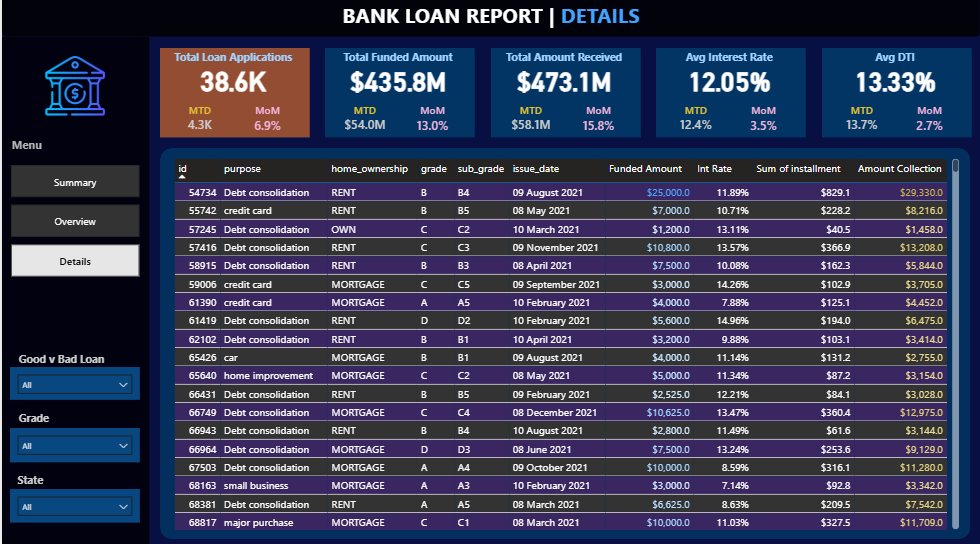

What the dashboard file says about the page in this screenshot:
{"tool":"powerbi","page":{"name":"Details","canvas":[1280,720],"ordinal":2},"visuals":[{"type":"shape","box":[0,0,1280.5,54.6],"z":0},{"type":"group","id":"g1","title":"Group 1","box":[203.1,69.4,199.4,120.6],"z":0,"group":"g7"},{"type":"group","id":"g2","title":"Group 1","box":[419.5,69.4,199.4,120.6],"z":0,"group":"g8"},{"type":"group","id":"g3","title":"Group 1","box":[636,69.4,199.4,120.6],"z":0,"group":"g9"},{"type":"group","id":"g4","title":"Group 1","box":[852.6,69.4,199.4,120.6],"z":0,"group":"g10"},{"type":"group","id":"g5","title":"Group 1","box":[1069.1,69.4,199.4,120.6],"z":0,"group":"g11"},{"type":"textbox","box":[203.6,67.3,199.3,30.8],"z":1000,"group":"g7"},{"type":"textbox","box":[420,67.3,199.3,30.8],"z":1000,"group":"g8"},{"type":"textbox","box":[636.5,67.3,199.3,30.8],"z":1000,"group":"g9"},{"type":"textbox","box":[853.1,67.3,199.3,30.8],"z":1000,"group":"g10"},{"type":"textbox","box":[1069.6,67.3,199.3,30.8],"z":1000,"group":"g11"},{"type":"shape","box":[207,199.6,1060.9,512.2],"z":1000},{"type":"textbox","box":[8.1,461.6,140,35.6],"z":1000,"group":"g16"},{"type":"textbox","box":[9.9,539.5,62.5,32.4],"z":1000,"group":"g17"},{"type":"textbox","box":[1.8,620.6,71.2,29.7],"z":1000,"group":"g18"},{"type":"shape","box":[0,54.6,192.9,665.8],"z":2000},{"type":"shape","box":[0,54.6,192.9,665.8],"z":3000},{"type":"shape","box":[206.5,69.4,195.9,117.2],"z":3000,"group":"g1"},{"type":"shape","box":[422.9,69.4,195.9,117.2],"z":3000,"group":"g2"},{"type":"shape","box":[639.4,69.4,195.9,117.2],"z":3000,"group":"g3"},{"type":"shape","box":[856,69.4,195.9,117.2],"z":3000,"group":"g4"},{"type":"shape","box":[1072.5,69.4,195.9,117.2],"z":3000,"group":"g5"},{"type":"textbox","box":[403,2.1,474.5,45.6],"z":4000},{"type":"image","box":[10.5,0,65.1,54.6],"z":5000},{"type":"textbox","box":[69.7,8.1,158,40.7],"z":6000},{"type":"group","id":"g6","title":"Group 3","box":[203.1,67.3,199.8,123.3],"z":7000},{"type":"group","id":"g7","title":"Group 2","box":[203.1,67.3,199.8,122.6],"z":7000,"group":"g6"},{"type":"group","id":"g8","title":"Group 2","box":[419.5,67.3,199.8,122.6],"z":7000,"group":"g12"},{"type":"group","id":"g9","title":"Group 2","box":[636,67.3,199.8,122.6],"z":7000,"group":"g13"},{"type":"group","id":"g10","title":"Group 2","box":[852.6,67.3,199.8,122.6],"z":7000,"group":"g14"},{"type":"group","id":"g11","title":"Group 2","box":[1069.1,67.3,199.8,122.6],"z":7000,"group":"g15"},{"type":"group","id":"g12","title":"Group 3","box":[419.5,67.3,199.9,123.3],"z":8000},{"type":"card","fields":{"Values":["financial_loan.Total Loan Applications"]},"box":[203.1,88.3,199.3,45.5],"z":8000,"group":"g1"},{"type":"card","fields":{"Values":["financial_loan.Total Loan Amount"]},"box":[419.5,88.3,199.3,45.5],"z":8000,"group":"g2"},{"type":"card","fields":{"Values":["financial_loan.Total Amount Collection"]},"box":[636,88.3,199.3,45.5],"z":8000,"group":"g3"},{"type":"card","fields":{"Values":["financial_loan.Avg Interest Rate"]},"box":[852.6,88.3,199.3,45.5],"z":8000,"group":"g4"},{"type":"card","fields":{"Values":["financial_loan.Avg DTI"]},"box":[1069.1,88.3,199.3,45.5],"z":8000,"group":"g5"},{"type":"card","title":"MoM","fields":{"Values":["financial_loan.YOY Loan Applications"]},"box":[303.6,141.9,88.1,48.7],"z":8000,"group":"g6"},{"type":"card","title":"MoM","fields":{"Values":["financial_loan.YOY Loan Amount"]},"box":[520,141.9,88.1,48.7],"z":8000,"group":"g12"},{"type":"card","title":"MoM","fields":{"Values":["financial_loan.YOY Loan Collection"]},"box":[736.5,141.9,88.1,48.7],"z":8000,"group":"g13"},{"type":"card","title":"MoM","fields":{"Values":["financial_loan.YOY Int Rate"]},"box":[953.1,141.9,88.1,48.7],"z":8000,"group":"g14"},{"type":"card","title":"MoM","fields":{"Values":["financial_loan.YOY DTI"]},"box":[1169.6,141.9,88.1,48.7],"z":8000,"group":"g15"},{"type":"group","id":"g13","title":"Group 3","box":[636,67.3,199.9,123.3],"z":9000},{"type":"card","title":"MTD","fields":{"Values":["financial_loan.MTD Applications"]},"box":[209.8,142,99.3,48],"z":9000,"group":"g1"},{"type":"card","title":"MTD","fields":{"Values":["financial_loan.MTD Loan Amount"]},"box":[426.2,142,99.3,48],"z":9000,"group":"g2"},{"type":"card","title":"MTD","fields":{"Values":["financial_loan.MTD Loan Collection"]},"box":[642.7,142,99.3,48],"z":9000,"group":"g3"},{"type":"card","title":"MTD","fields":{"Values":["financial_loan.MTD Avg Int Rate"]},"box":[859.3,142,99.3,48],"z":9000,"group":"g4"},{"type":"card","title":"MTD","fields":{"Values":["financial_loan.MTD Avg DTI"]},"box":[1075.8,142,99.3,48],"z":9000,"group":"g5"},{"type":"group","id":"g14","title":"Group 3","box":[852.6,67.3,199.9,123.3],"z":10000},{"type":"group","id":"g15","title":"Group 3","box":[1069.1,67.3,199.9,123.3],"z":11000},{"type":"image","box":[26.8,69.2,138.4,99.3],"z":12000},{"type":"slicer","fields":{"Values":["financial_loan.Good v Bad Loan"]},"box":[10.1,487,169.7,43],"z":13000},{"type":"slicer","fields":{"Values":["financial_loan.grade"]},"box":[10.4,566.7,169.9,44.5],"z":14000},{"type":"slicer","fields":{"Values":["financial_loan.address_state"]},"box":[10,647.3,169.9,43.5],"z":15000},{"type":"group","id":"g16","title":"Group 2","box":[8.1,461.6,140,35.6],"z":16000},{"type":"group","id":"g17","title":"Group 2","box":[9.9,539.5,62.5,32.4],"z":17000},{"type":"group","id":"g18","title":"Group 2","box":[1.8,620.6,71.2,29.7],"z":18000},{"type":"pageNavigator","box":[11.9,221.9,168.5,147.2],"z":19000},{"type":"textbox","box":[8.3,180.3,157.5,34.2],"z":20000},{"type":"tableEx","fields":{"Values":["financial_loan.id","financial_loan.purpose","financial_loan.home_ownership","financial_loan.grade","financial_loan.sub_grade","financial_loan.issue_date","financial_loan.Total Funded Amount","Sum(financial_loan.int_rate)","Sum(financial_loan.installment)","financial_loan.Total Amount Collection"]},"box":[219.6,209.3,1038,495.2],"z":21000}]}

Visuals, with their boxes in screenshot pixels (x1, y1, x2, y2), scaled from the page's 1280x720 canvas onto the 980x544 screenshot:
shape: (0, 0, 979, 41)
"Group 1" group: (155, 52, 308, 144)
"Group 1" group: (321, 52, 474, 144)
"Group 1" group: (487, 52, 640, 144)
"Group 1" group: (653, 52, 805, 144)
"Group 1" group: (819, 52, 971, 144)
textbox: (156, 51, 308, 74)
textbox: (322, 51, 474, 74)
textbox: (487, 51, 640, 74)
textbox: (653, 51, 806, 74)
textbox: (819, 51, 972, 74)
shape: (158, 151, 971, 538)
textbox: (6, 349, 113, 376)
textbox: (8, 408, 55, 432)
textbox: (1, 469, 56, 491)
shape: (0, 41, 148, 543)
shape: (0, 41, 148, 543)
shape: (158, 52, 308, 141)
shape: (324, 52, 474, 141)
shape: (490, 52, 640, 141)
shape: (655, 52, 805, 141)
shape: (821, 52, 971, 141)
textbox: (309, 2, 672, 36)
image: (8, 0, 58, 41)
textbox: (53, 6, 174, 37)
"Group 3" group: (155, 51, 308, 144)
"Group 2" group: (155, 51, 308, 143)
"Group 2" group: (321, 51, 474, 143)
"Group 2" group: (487, 51, 640, 143)
"Group 2" group: (653, 51, 806, 143)
"Group 2" group: (819, 51, 972, 143)
"Group 3" group: (321, 51, 474, 144)
card - financial_loan.Total Loan Applications: (155, 67, 308, 101)
card - financial_loan.Total Loan Amount: (321, 67, 474, 101)
card - financial_loan.Total Amount Collection: (487, 67, 640, 101)
card - financial_loan.Avg Interest Rate: (653, 67, 805, 101)
card - financial_loan.Avg DTI: (819, 67, 971, 101)
"MoM" card: (232, 107, 300, 144)
"MoM" card: (398, 107, 466, 144)
"MoM" card: (564, 107, 631, 144)
"MoM" card: (730, 107, 797, 144)
"MoM" card: (895, 107, 963, 144)
"Group 3" group: (487, 51, 640, 144)
"MTD" card: (161, 107, 237, 144)
"MTD" card: (326, 107, 402, 144)
"MTD" card: (492, 107, 568, 144)
"MTD" card: (658, 107, 734, 144)
"MTD" card: (824, 107, 900, 144)
"Group 3" group: (653, 51, 806, 144)
"Group 3" group: (819, 51, 972, 144)
image: (21, 52, 126, 127)
slicer - financial_loan.Good v Bad Loan: (8, 368, 138, 400)
slicer - financial_loan.grade: (8, 428, 138, 462)
slicer - financial_loan.address_state: (8, 489, 138, 522)
"Group 2" group: (6, 349, 113, 376)
"Group 2" group: (8, 408, 55, 432)
"Group 2" group: (1, 469, 56, 491)
pageNavigator: (9, 168, 138, 279)
textbox: (6, 136, 127, 162)
tableEx - financial_loan.id x financial_loan.purpose: (168, 158, 963, 532)
